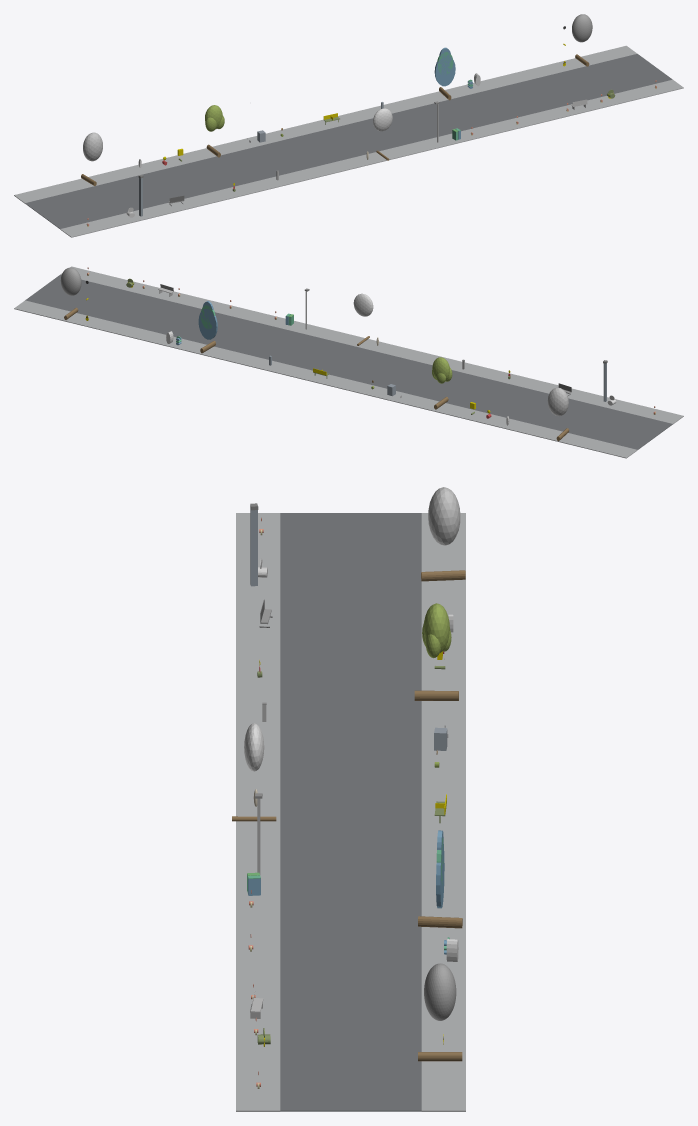
3 views of the same model, one above another, from view 1: azimuth 30°, elevation 25°; view 2: azimuth 150°, elevation 25°; view 3: azimuth 270°, elevation 25° (orthographic). The views are drawn at different scales.
Parts seen in each view (by area): view 1: road_slab, sidewalk_left, sidewalk_right, inst_0015, inst_0016, inst_0012, inst_0013, inst_0014; view 2: road_slab, sidewalk_right, sidewalk_left, inst_0015, inst_0012, inst_0016, inst_0013, inst_0014; view 3: road_slab, sidewalk_left, sidewalk_right, inst_0012, inst_0016, inst_0013, inst_0015, inst_0014.
Boxes of the visible parts, <box> form: road_slab: <box>25,54,672,228</box>; sidewalk_left: <box>60,79,683,237</box>; sidewalk_right: <box>14,45,637,203</box>; inst_0015: <box>434,47,455,100</box>; inst_0016: <box>572,14,592,66</box>; inst_0012: <box>81,132,102,185</box>; inst_0013: <box>205,105,224,157</box>; inst_0014: <box>373,108,392,160</box>; road_slab: <box>25,274,672,449</box>; sidewalk_right: <box>14,300,637,458</box>; sidewalk_left: <box>60,266,683,424</box>; inst_0015: <box>198,301,217,353</box>; inst_0012: <box>547,387,569,441</box>; inst_0016: <box>60,267,81,319</box>; inst_0013: <box>432,357,452,409</box>; inst_0014: <box>353,293,373,345</box>; road_slab: <box>280,513,421,1111</box>; sidewalk_left: <box>236,513,280,1111</box>; sidewalk_right: <box>421,513,465,1111</box>; inst_0012: <box>421,487,465,581</box>; inst_0016: <box>418,963,462,1061</box>; inst_0013: <box>414,603,458,700</box>; inst_0015: <box>418,830,462,928</box>; inst_0014: <box>232,723,276,821</box>.
Bounding box in the file's own units: 80 × 6.08 × 13.22.
